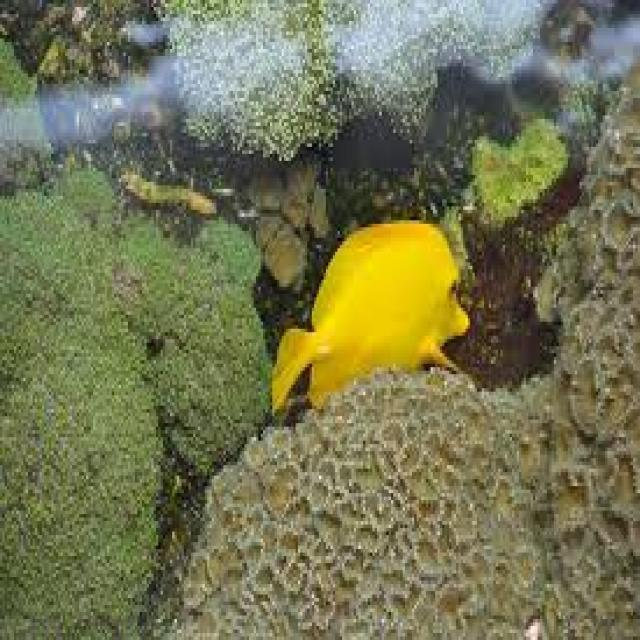TangFish: (272, 219, 471, 401)
